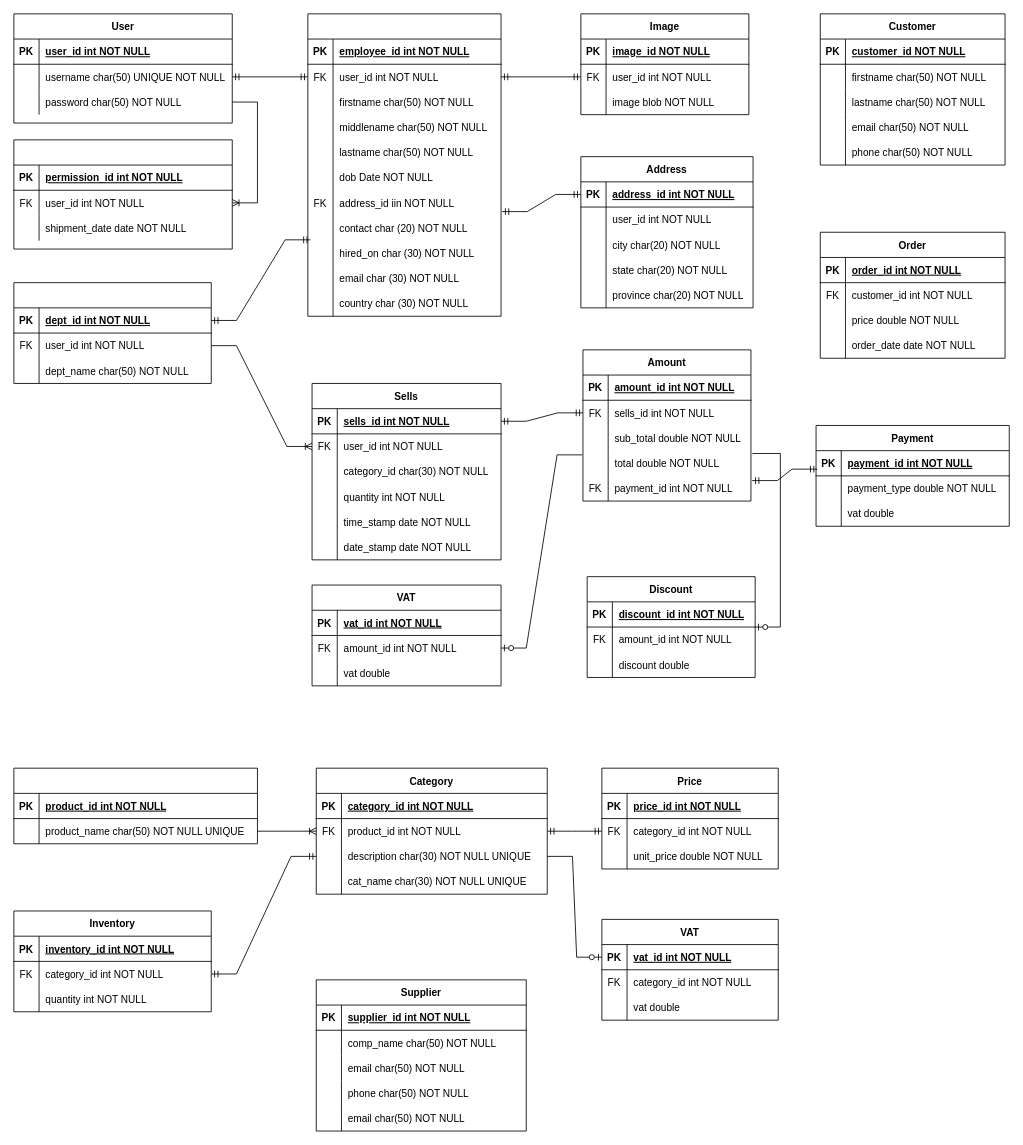
The diagram is 1023 pixels wide and 1145 high, and some of its shapes have lost their labels. The shapes that lost their labels are listed below. From the top down, each one's box as (x1, y1, x2, y2) in pixels, then its label:
(307, 13, 501, 316): Employee_details
(13, 139, 232, 249): Permissions
(13, 282, 211, 383): Department
(13, 767, 257, 844): Products
